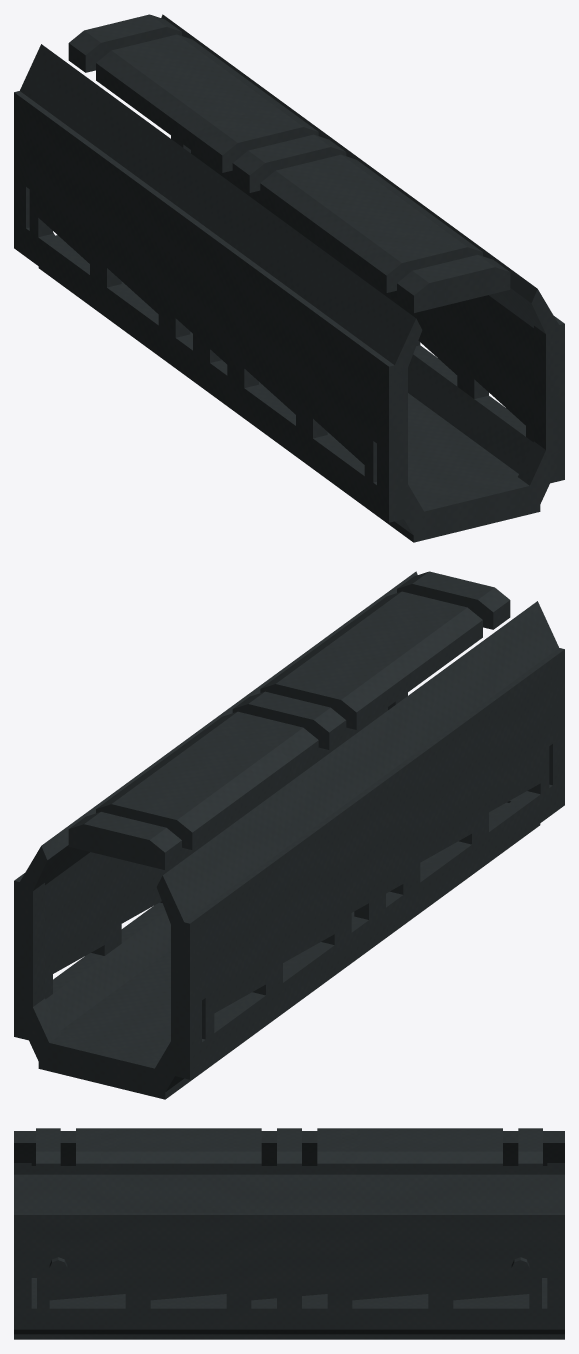
The model's file is mpx_guard_long.glb.
3 renders of one model, top to bottom at view 1: azimuth 30°, elevation 25°; view 2: azimuth 150°, elevation 25°; view 3: azimuth 270°, elevation 25°, orthographic. The views are drawn at different scales.
Visible parts, largest first — view 1: handguard__mpx_guard_long_LOD0_RAID_Secondary_Original_steel, handguard__mpx_guard_long_LOD1_RAID_Secondary_Original_steel; view 2: handguard__mpx_guard_long_LOD0_RAID_Secondary_Original_steel, handguard__mpx_guard_long_LOD1_RAID_Secondary_Original_steel; view 3: handguard__mpx_guard_long_LOD0_RAID_Secondary_Original_steel, handguard__mpx_guard_long_LOD1_RAID_Secondary_Original_steel.
Part boxes in pixels (bbox=[...]): handguard__mpx_guard_long_LOD0_RAID_Secondary_Original_steel: bbox=[14, 14, 564, 542]; handguard__mpx_guard_long_LOD1_RAID_Secondary_Original_steel: bbox=[29, 36, 533, 510]; handguard__mpx_guard_long_LOD0_RAID_Secondary_Original_steel: bbox=[14, 571, 564, 1099]; handguard__mpx_guard_long_LOD1_RAID_Secondary_Original_steel: bbox=[45, 592, 549, 1066]; handguard__mpx_guard_long_LOD0_RAID_Secondary_Original_steel: bbox=[14, 1128, 564, 1339]; handguard__mpx_guard_long_LOD1_RAID_Secondary_Original_steel: bbox=[37, 1128, 541, 1329].
Bounding box in the file's own units: 0.088 × 0.11 × 0.31.
Materials: 1 (1 with a texture image).
